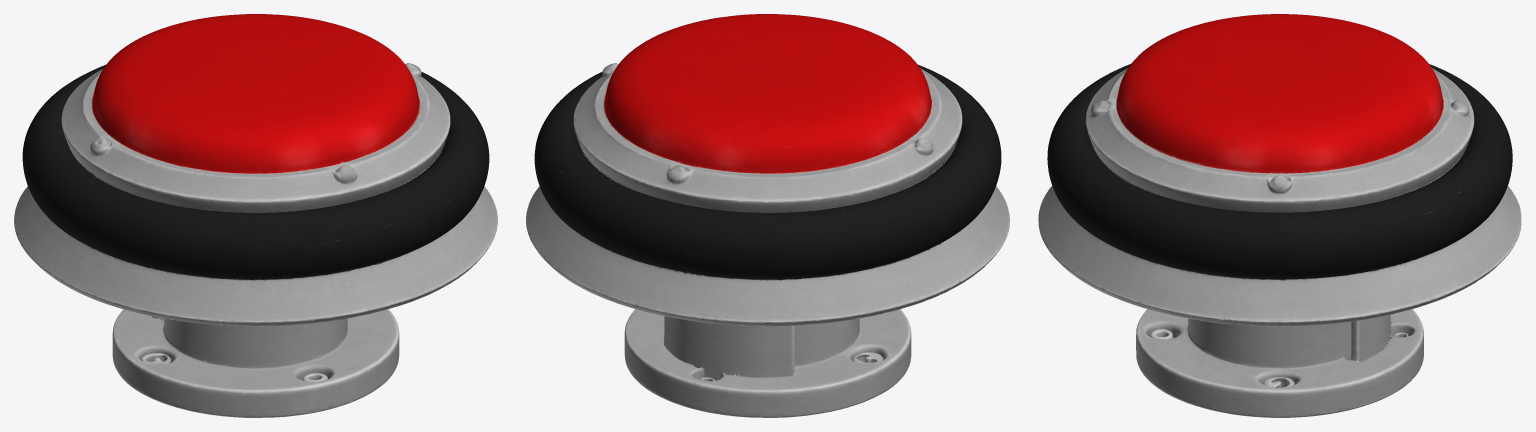
Rendered from pop-bumper.glb.
The picture shows the model from 3 angles, left to right: view 1: azimuth 30°, elevation 25°; view 2: azimuth 150°, elevation 25°; view 3: azimuth 270°, elevation 25°; orthographic projection.
Size of the model in its own units: 1 by 0.6741 by 1.
Materials: 1 (1 with a texture image).
